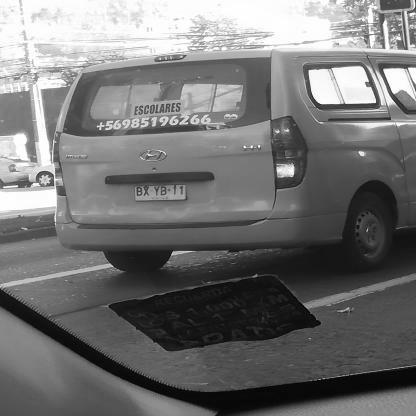Patente: (129, 184, 192, 203)
